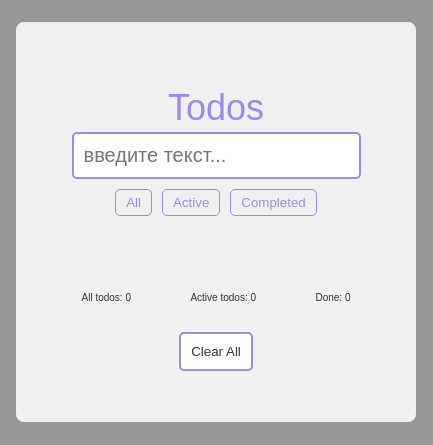
Test: add new todo
Симулируем ввод текста и отправку формы
Type "New todo" into the field with placeholder "введите текст..." at (216, 156), box [72,132,360,179]
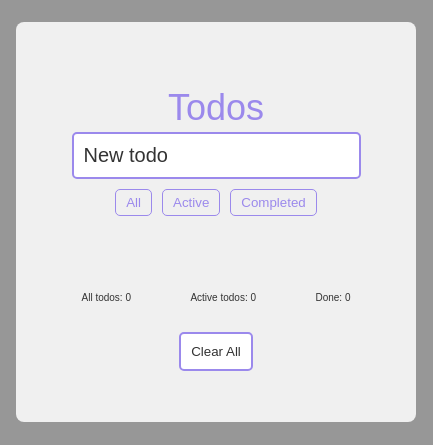
Submit the form from the field with placeholder "введите текст...", box [72,132,360,179]
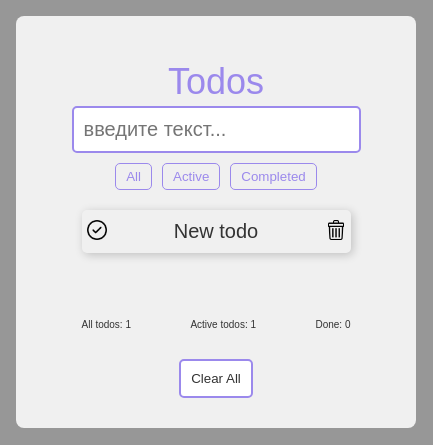
Now the list item "New todo" is shown, box [82,210,350,252]
